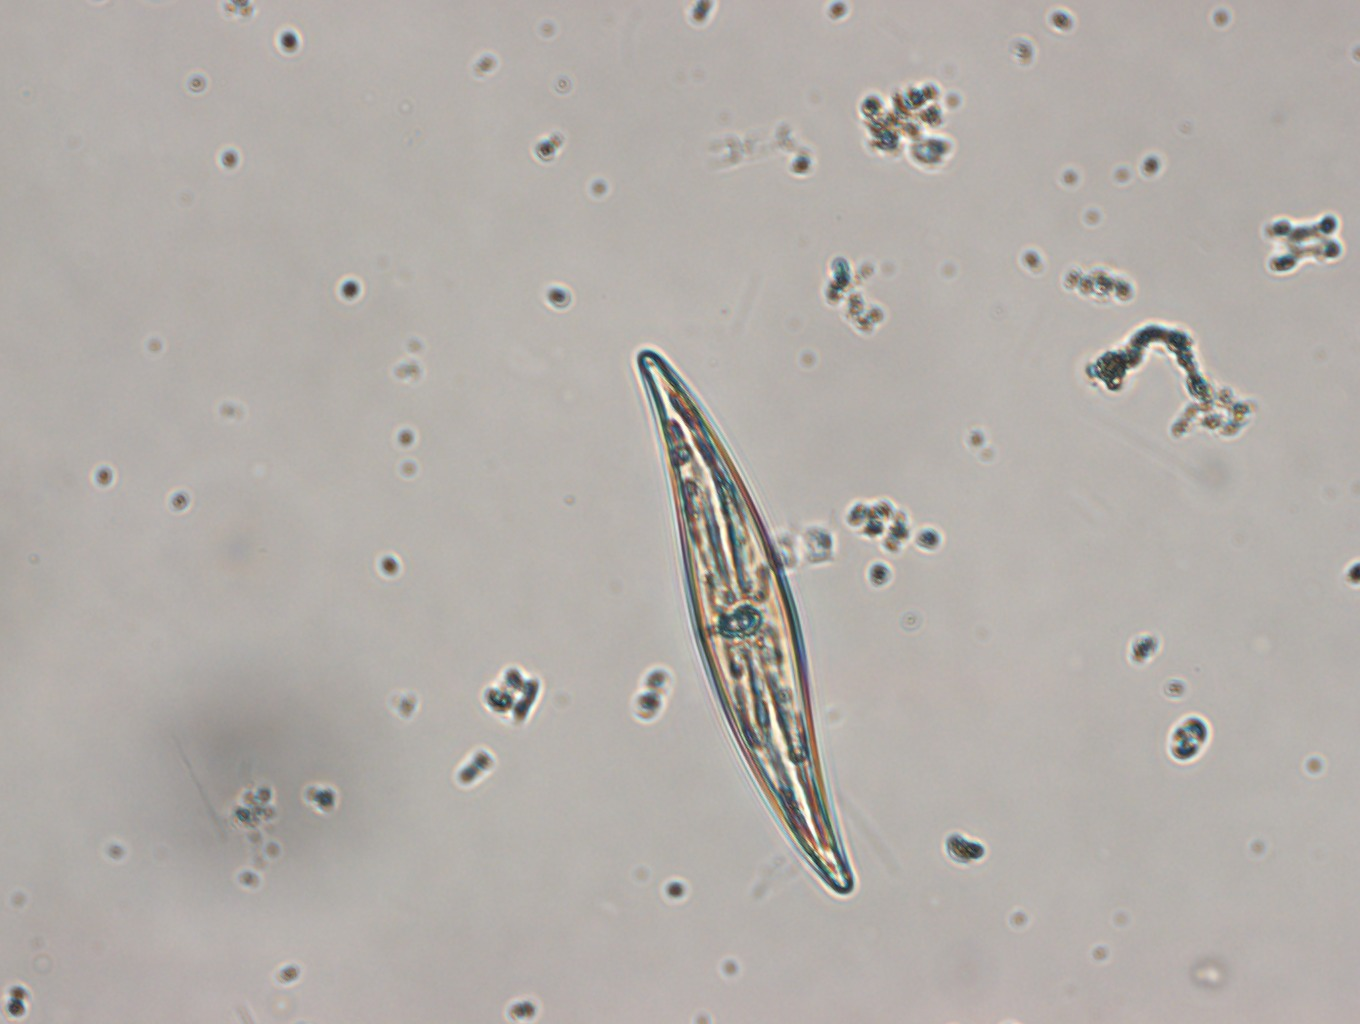pleurosigma pelagicum: (636, 335, 856, 900)
